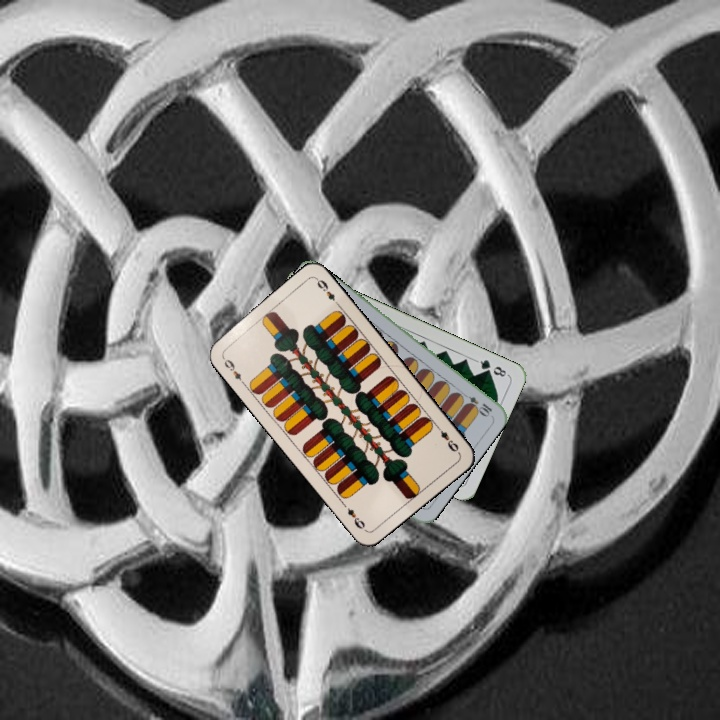E10: (457, 389, 495, 418)
E9: (218, 352, 247, 387), (432, 421, 461, 454)
G8: (472, 355, 511, 379)
